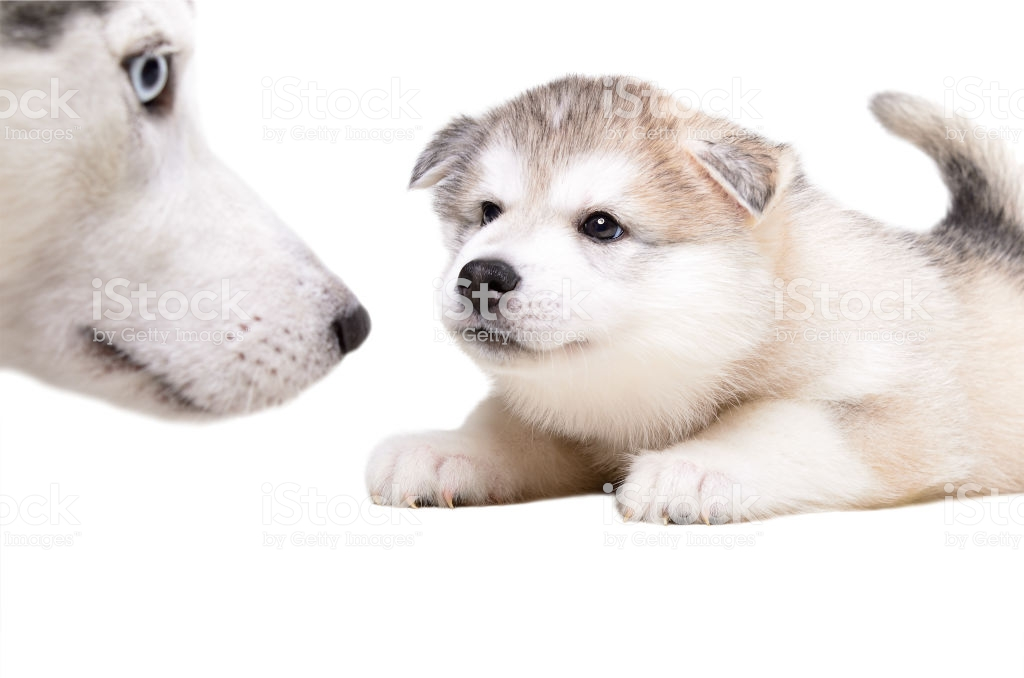husky: (351, 66, 1002, 537)
